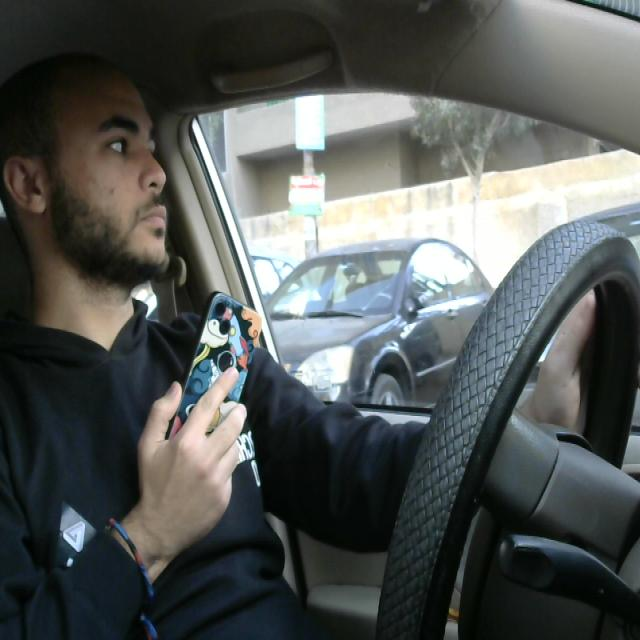mobile use: (163, 286, 267, 482)
